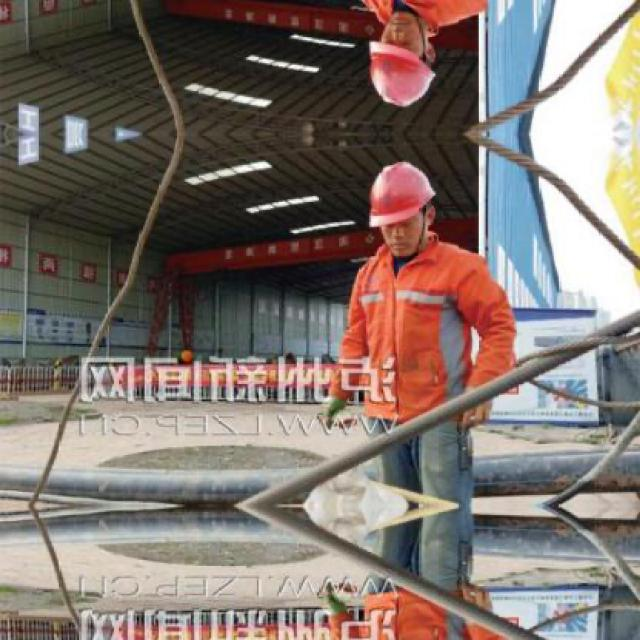helmet: (366, 157, 442, 264), (366, 6, 442, 113)
